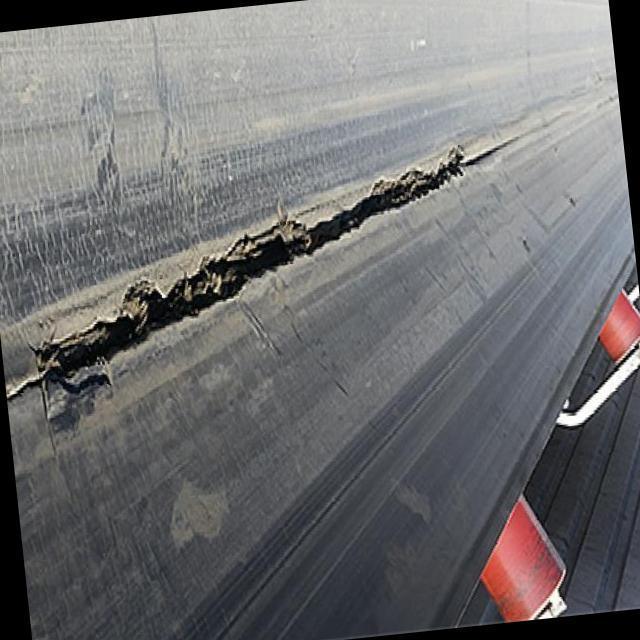Tear: (0, 128, 525, 421)
